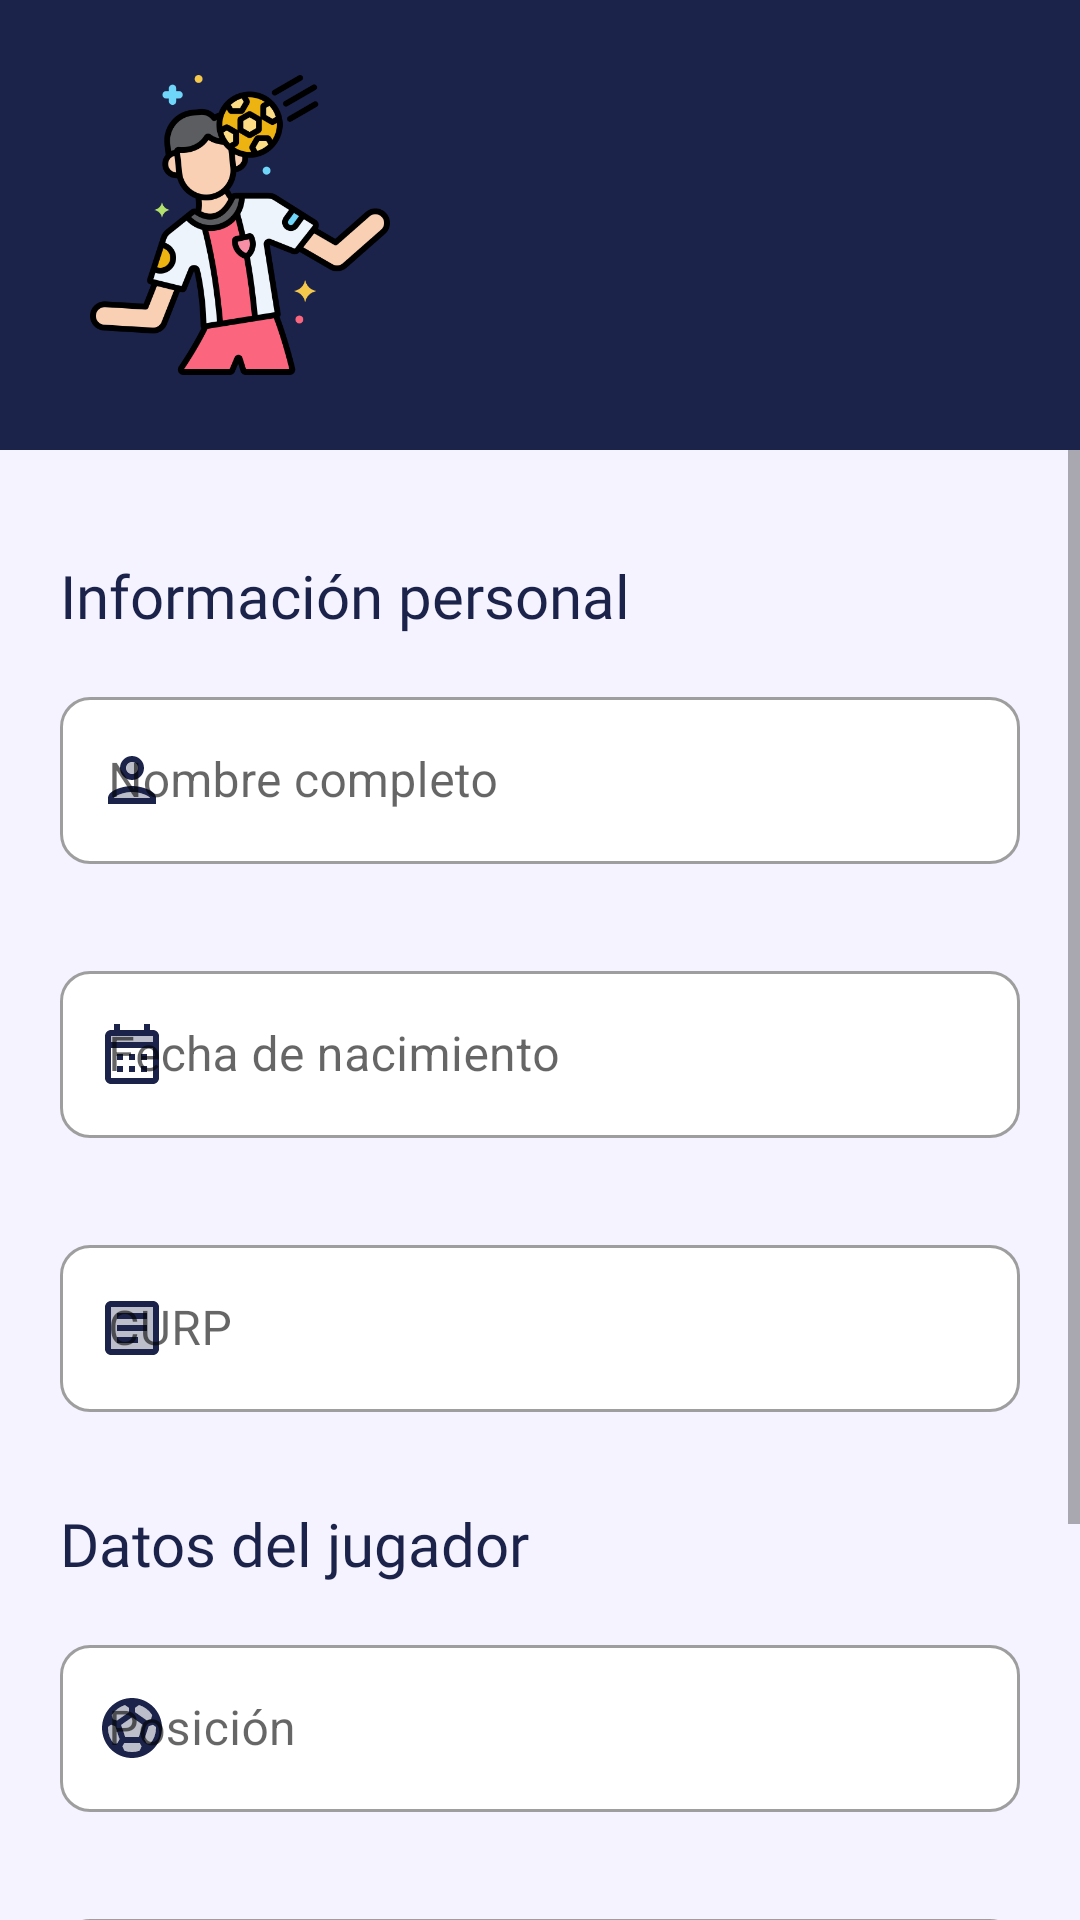

Icon click points for this 1080×1920 phone screenshot, format (x=x, y=y):
encabezamiento: (x=240, y=225)
